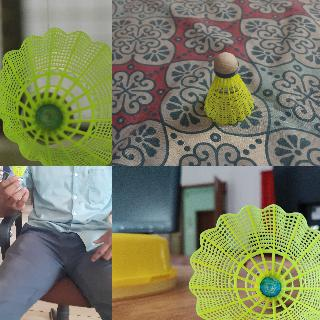shuttlecock: (0, 27, 111, 165), (187, 204, 319, 319), (203, 52, 253, 124), (8, 166, 31, 181)
